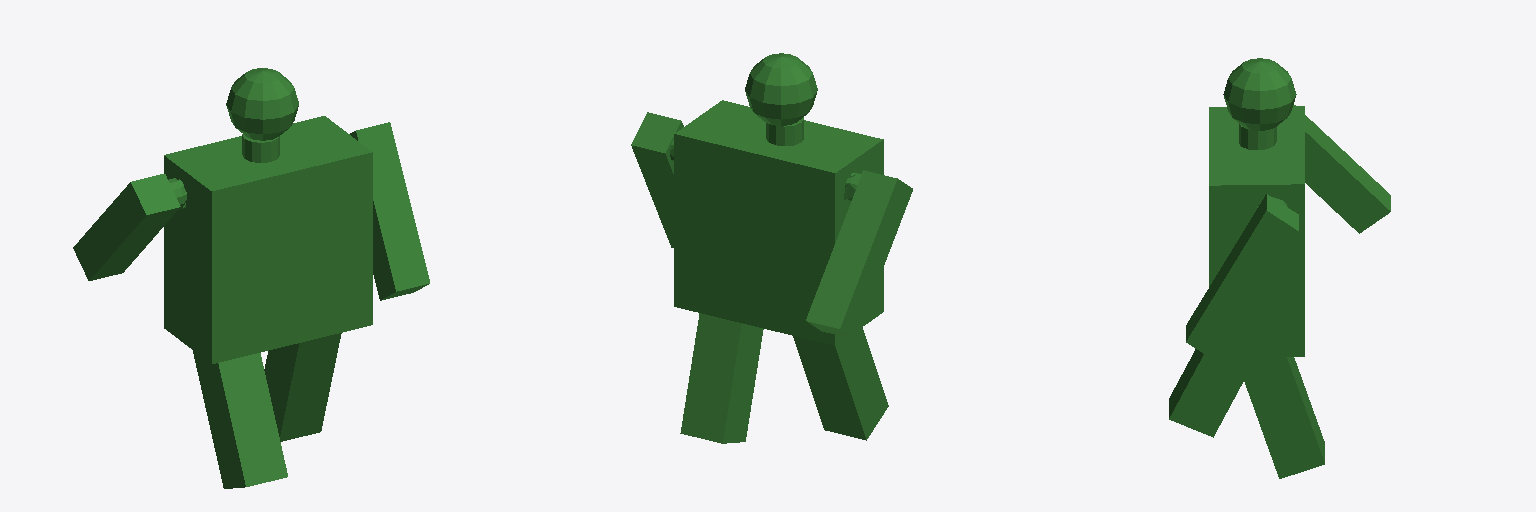
Rendered from msfigureStep2.obj.
3 renders of one model, left to right at view 1: azimuth 30°, elevation 25°; view 2: azimuth 150°, elevation 25°; view 3: azimuth 270°, elevation 25°, orthographic.
Parts seen in each view (by area): view 1: Regroup01; view 2: Regroup01; view 3: Regroup01.
Boxes of the visible parts, <box> form: Regroup01: <box>73,68,429,488</box>; Regroup01: <box>631,53,912,443</box>; Regroup01: <box>1169,58,1390,478</box>.
Bounding box in the file's own units: 0.4825 × 0.6976 × 0.3641.